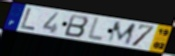4: (41, 11, 61, 34)
7: (131, 24, 156, 48)
B: (63, 14, 90, 38)
L: (85, 17, 105, 43), (19, 7, 37, 32)
M: (105, 21, 137, 46)
